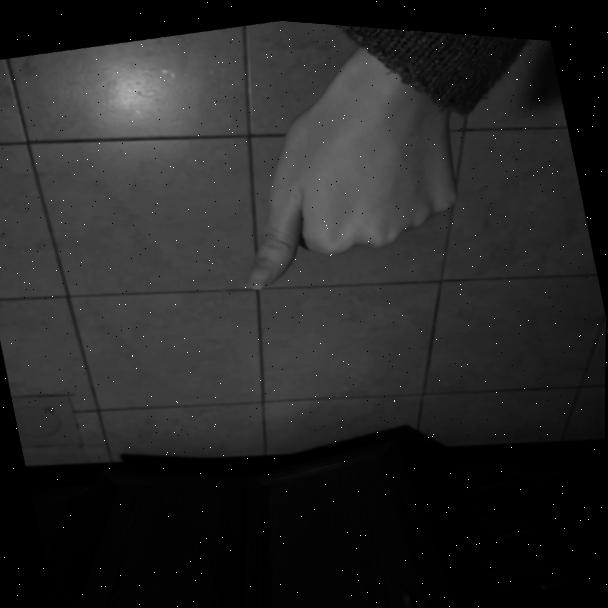five: (181, 39, 493, 310)
